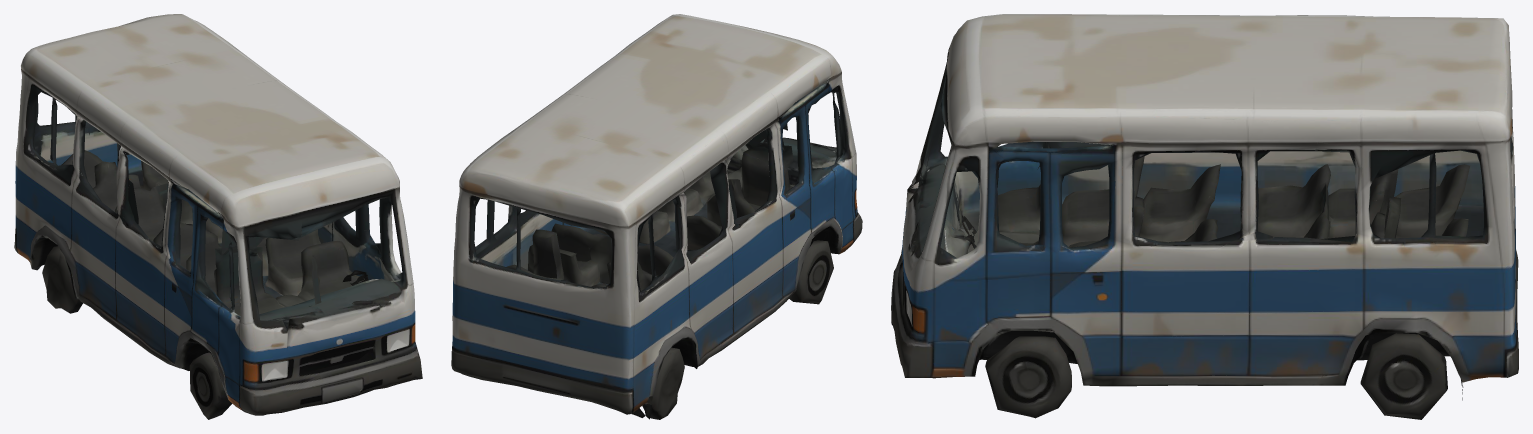
The model's file is SM_Vehicle_VintagePassengerBus_01.fbx.
3 renders of one model, left to right at view 1: azimuth 30°, elevation 25°; view 2: azimuth 150°, elevation 25°; view 3: azimuth 270°, elevation 25°, orthographic. The views are drawn at different scales.
Visible parts, largest first — view 1: SM_Vehicle_VintagePassengerBus_01; view 2: SM_Vehicle_VintagePassengerBus_01; view 3: SM_Vehicle_VintagePassengerBus_01.
Part boxes in pixels (x1,y1,x2,y2): SM_Vehicle_VintagePassengerBus_01: (14, 14, 422, 419); SM_Vehicle_VintagePassengerBus_01: (451, 14, 862, 419); SM_Vehicle_VintagePassengerBus_01: (891, 14, 1518, 419).
Bounding box in the file's own units: 0.4493 × 0.5425 × 0.9966.
Materials: 1 (1 with a texture image).
